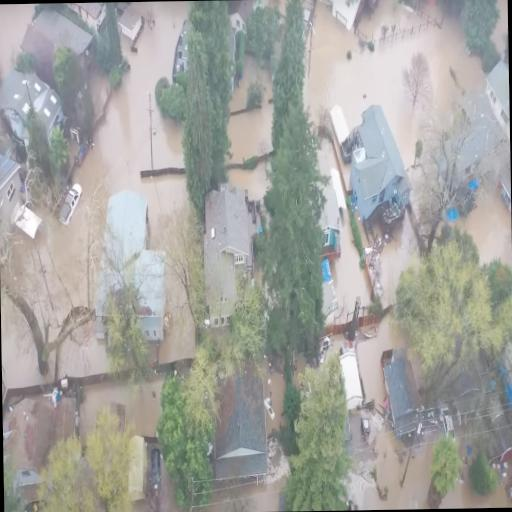flood: (9, 1, 187, 329), (305, 0, 485, 187), (1, 290, 108, 389), (349, 411, 438, 510), (438, 415, 512, 509), (79, 374, 164, 444), (228, 51, 273, 161), (199, 457, 288, 512), (358, 314, 409, 409), (148, 272, 195, 367), (458, 186, 512, 264), (332, 218, 371, 320), (382, 211, 419, 304), (0, 4, 33, 79), (228, 162, 269, 198), (264, 371, 286, 434), (162, 462, 185, 512), (492, 0, 508, 57), (131, 497, 149, 512)
house: (91, 184, 168, 339), (200, 184, 258, 332), (342, 107, 408, 235), (212, 369, 270, 483), (0, 65, 67, 161), (18, 6, 97, 86), (376, 343, 424, 440), (0, 102, 23, 241), (482, 58, 510, 168), (327, 0, 384, 34), (320, 151, 339, 246), (328, 102, 356, 160), (126, 432, 148, 503), (58, 3, 110, 33), (52, 392, 79, 442), (170, 16, 188, 82), (230, 0, 251, 43), (119, 6, 142, 38), (498, 166, 512, 218)
